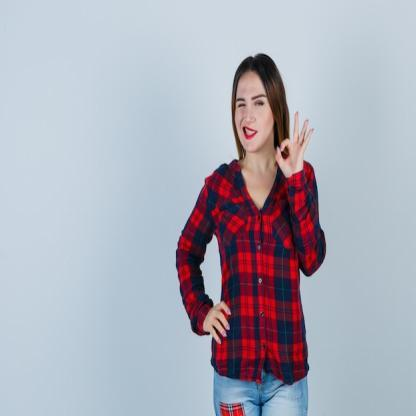ok: (275, 108, 316, 179)
